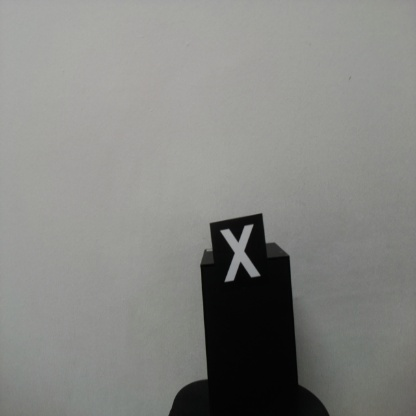id_13: (210, 221, 267, 294)
